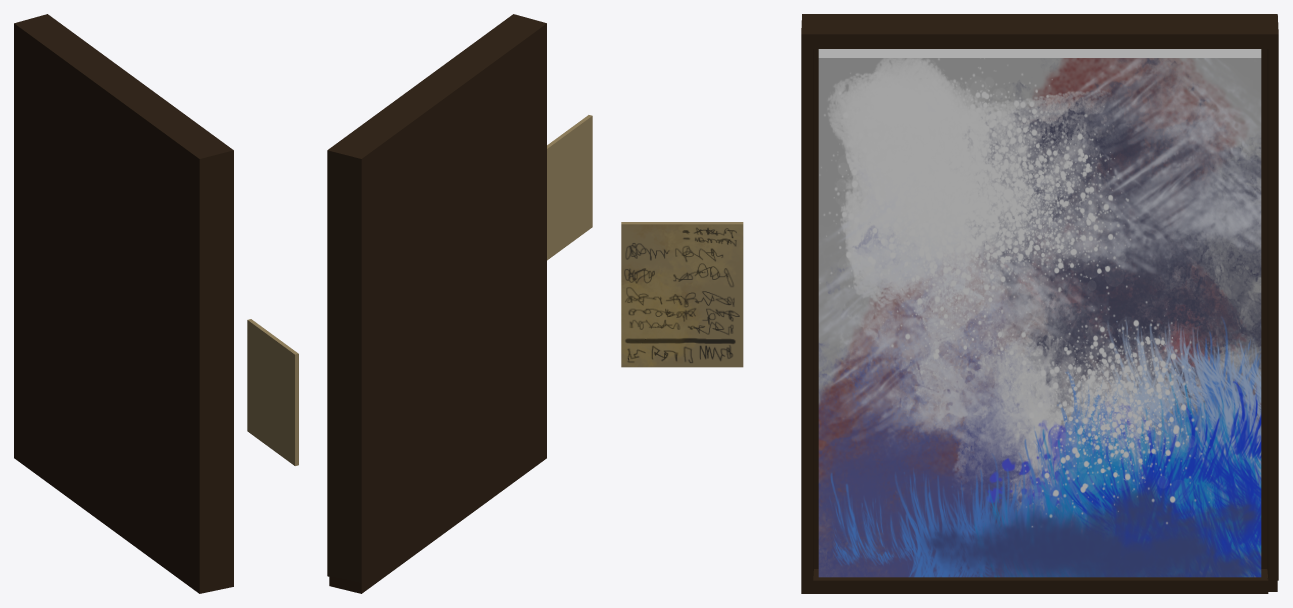
File: painting5.fbx
3 views of the same model, side by side, from view 1: azimuth 30°, elevation 25°; view 2: azimuth 150°, elevation 25°; view 3: azimuth 270°, elevation 25° (orthographic). The views are drawn at different scales.
Parts seen in each view (by area): view 1: Frame; view 2: Frame; view 3: Frame.
Part boxes in pixels (x1=…): Frame: x1=14, y1=14, x2=298, y2=593; Frame: x1=327, y1=14, x2=592, y2=593; Frame: x1=621, y1=14, x2=1278, y2=593.
Size of the model in its own units: 815 by 766 by 73.09.
Materials: 3 (2 with a texture image).
